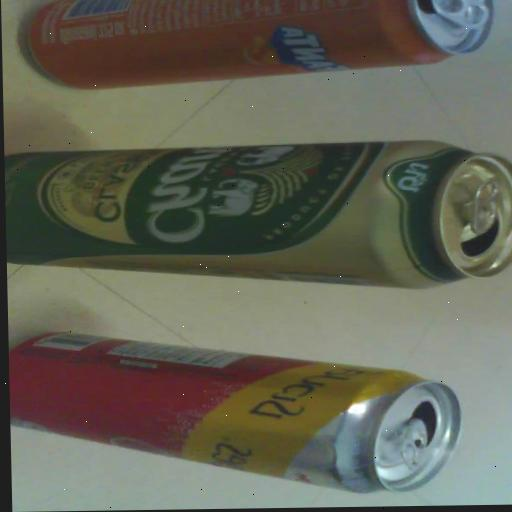canned: (3, 123, 512, 311), (7, 322, 483, 512), (19, 0, 512, 111)
